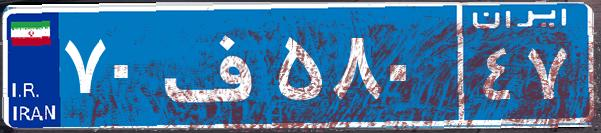0: (385, 28, 445, 110), (110, 28, 158, 105)
4: (475, 38, 525, 113)
5: (273, 28, 330, 110)
7: (57, 26, 110, 107), (525, 38, 570, 115)
8: (330, 28, 385, 110)
ف: (158, 15, 273, 115)
